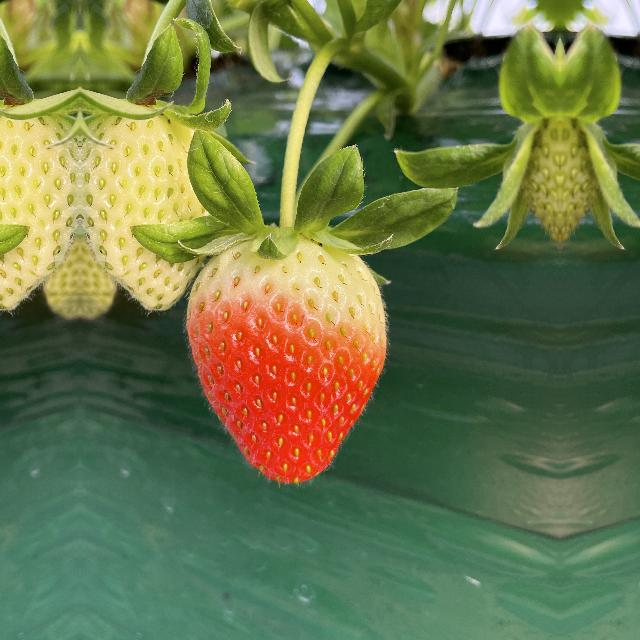Health_25: (81, 93, 222, 315), (0, 93, 78, 315)
Health_75: (184, 224, 396, 492)
